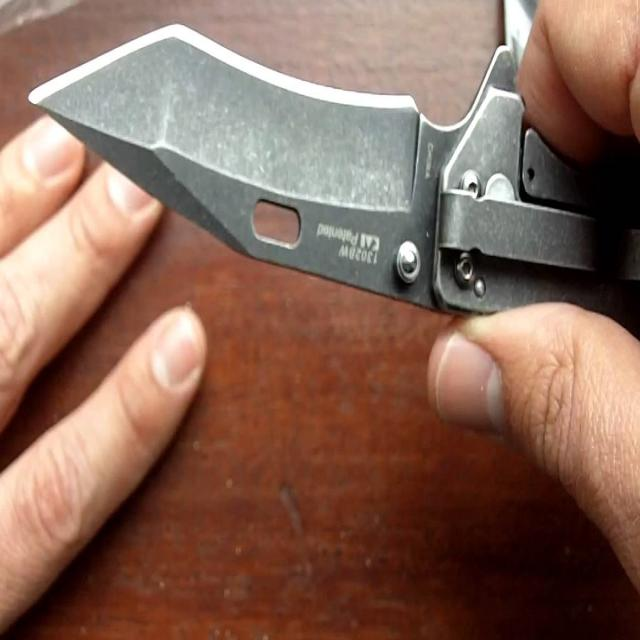knife: (21, 11, 564, 315)
